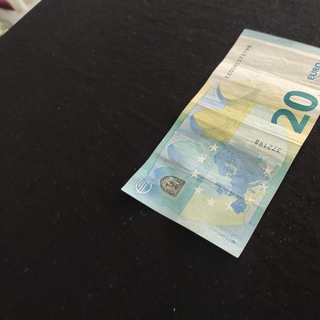20EUROBack: (120, 28, 320, 258)
